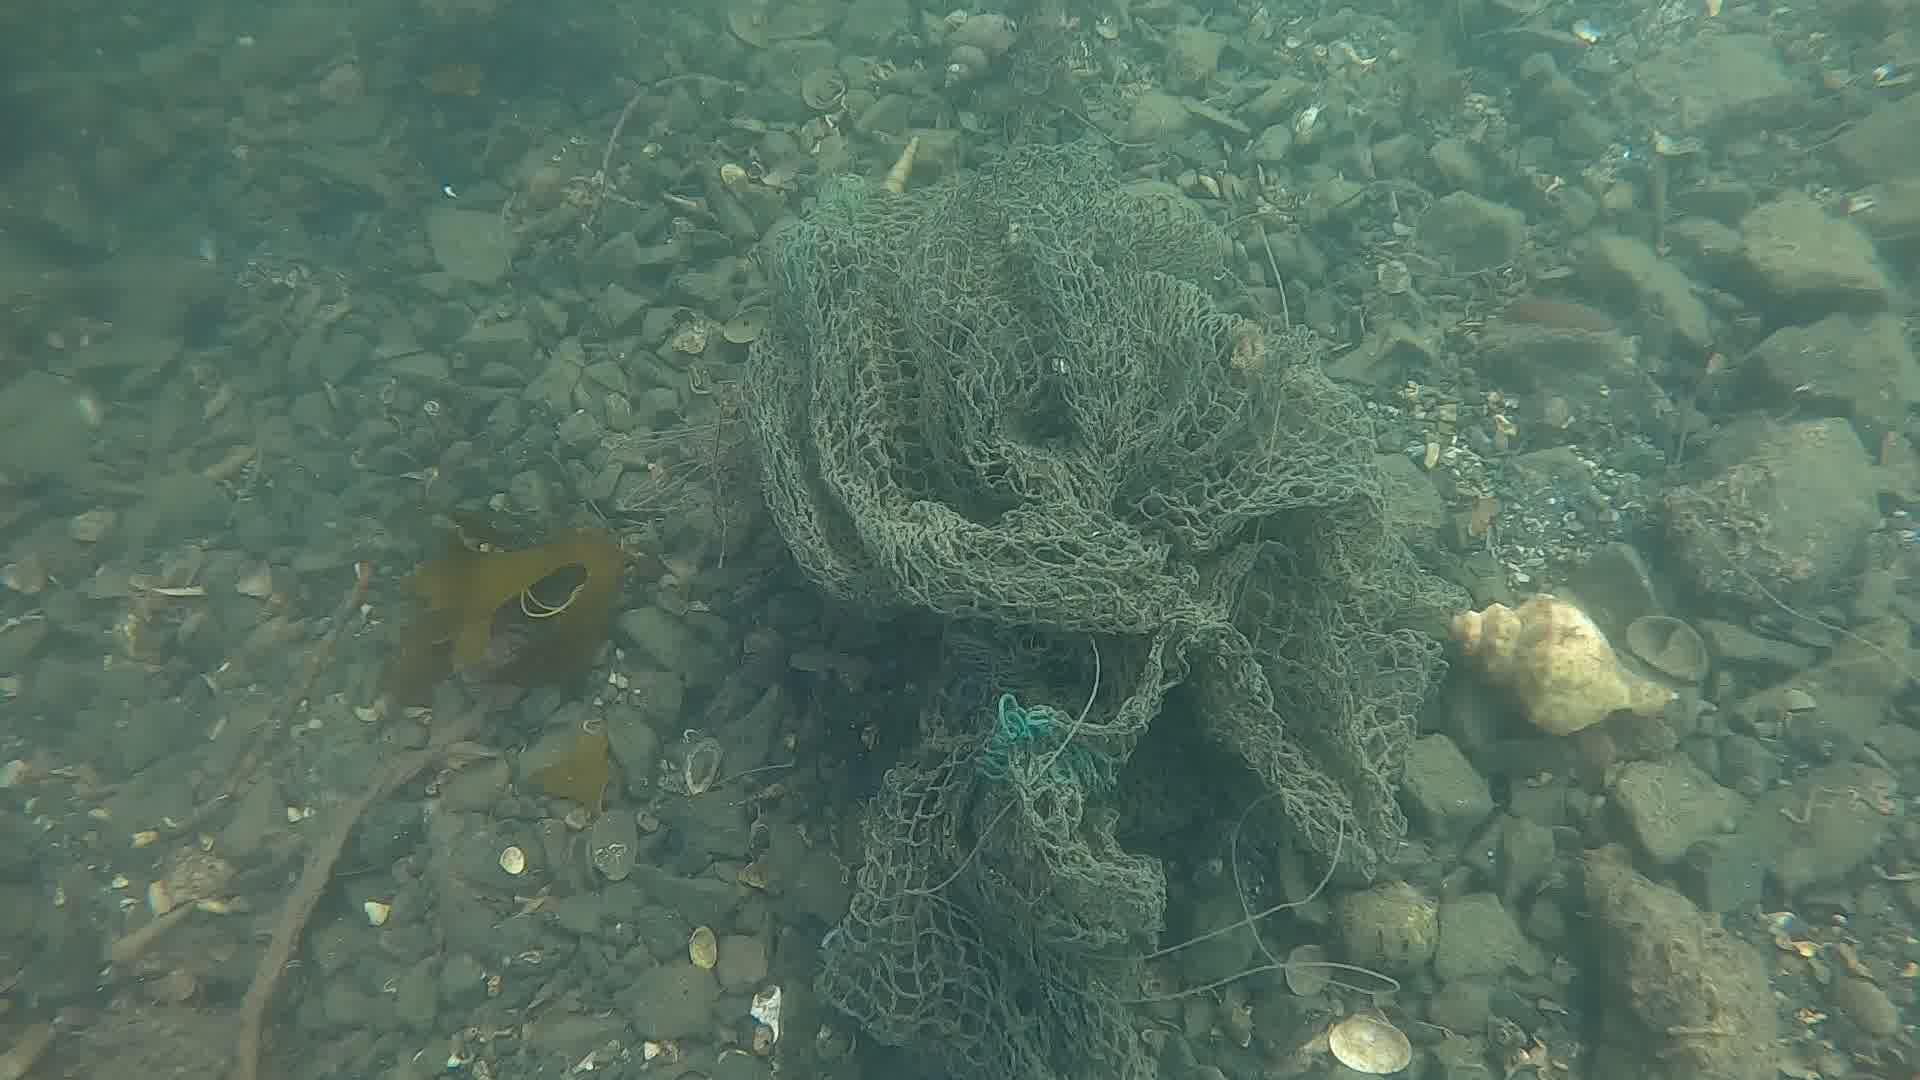fish net: (754, 142, 1447, 1080)
